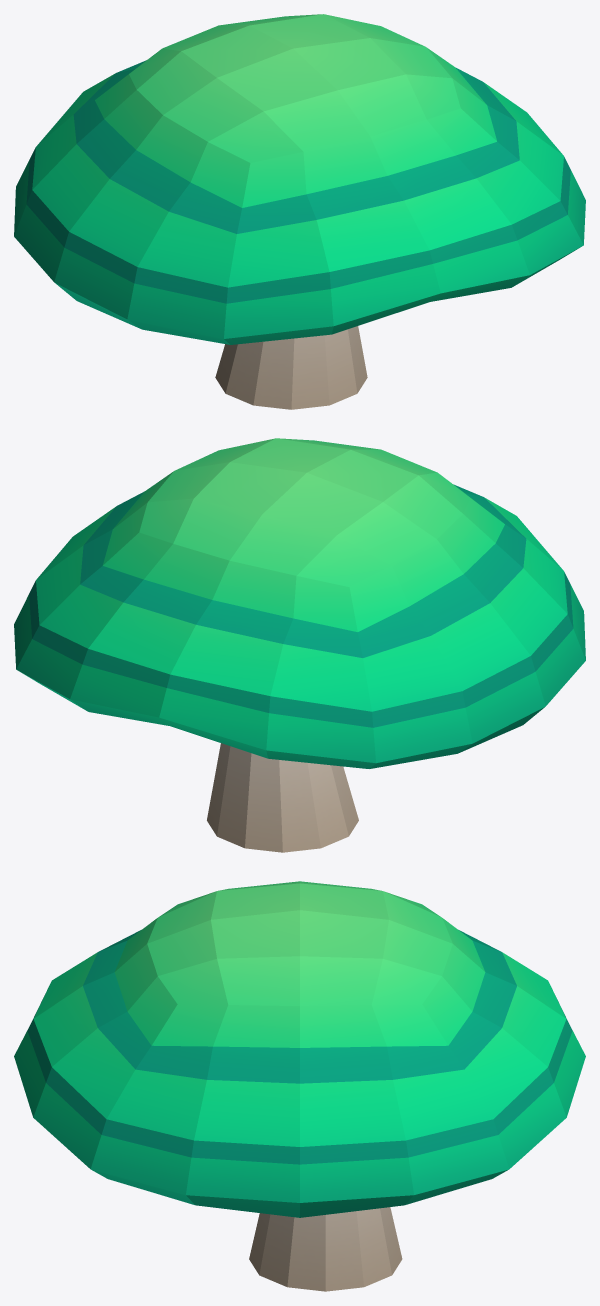
Rendered from Mushroom2.fbx.
3 views of the same model, one above another, from view 1: azimuth 30°, elevation 25°; view 2: azimuth 150°, elevation 25°; view 3: azimuth 270°, elevation 25° (orthographic).
Visible parts, largest first — view 1: Mushroom2; view 2: Mushroom2; view 3: Mushroom2.
Part boxes in pixels (bbox=[...]): Mushroom2: bbox=[14, 14, 585, 409]; Mushroom2: bbox=[14, 438, 585, 852]; Mushroom2: bbox=[14, 881, 585, 1291].
Bounding box in the file's own units: 31.74 × 21.05 × 31.75.
